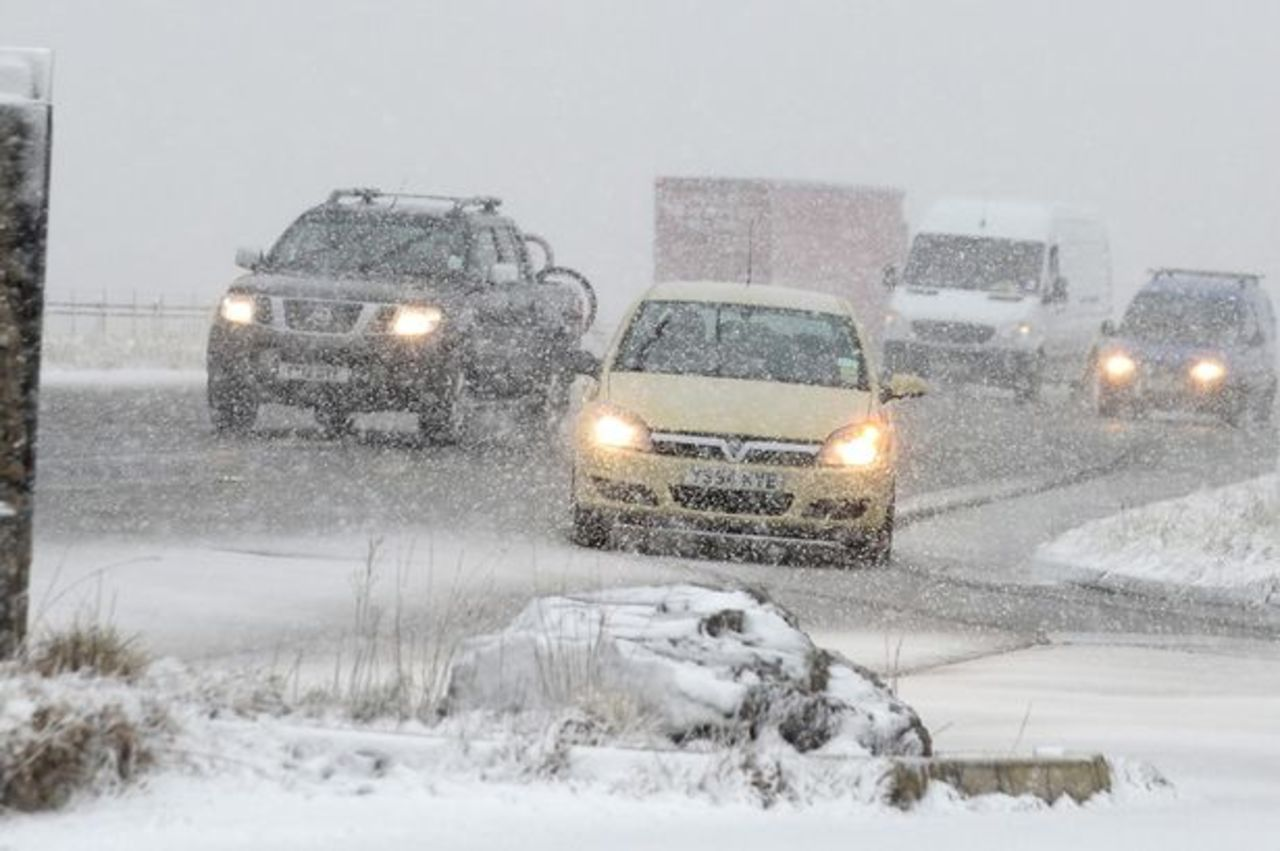car: (561, 276, 915, 574), (204, 191, 597, 453), (891, 198, 1105, 400), (1082, 273, 1273, 449)
truck: (657, 172, 904, 368)
